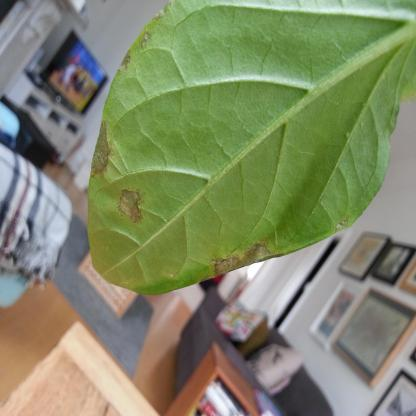bell pepper leaf spot: (86, 3, 378, 297)
